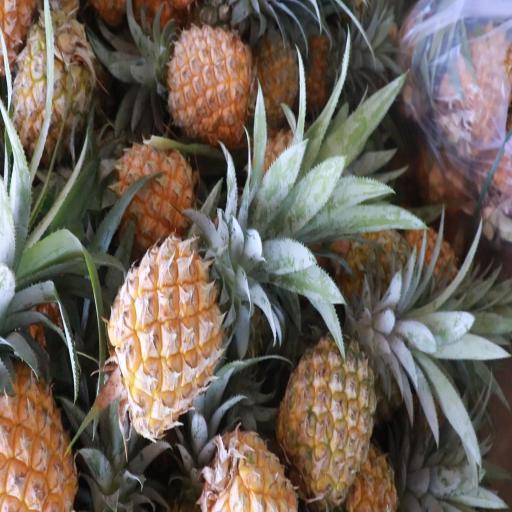------------------------------: (282, 343, 374, 503), (8, 18, 93, 164)
Pineapple - v8 v1: (109, 243, 223, 425), (0, 333, 73, 512), (167, 25, 252, 137), (198, 425, 297, 512), (116, 140, 193, 240)
